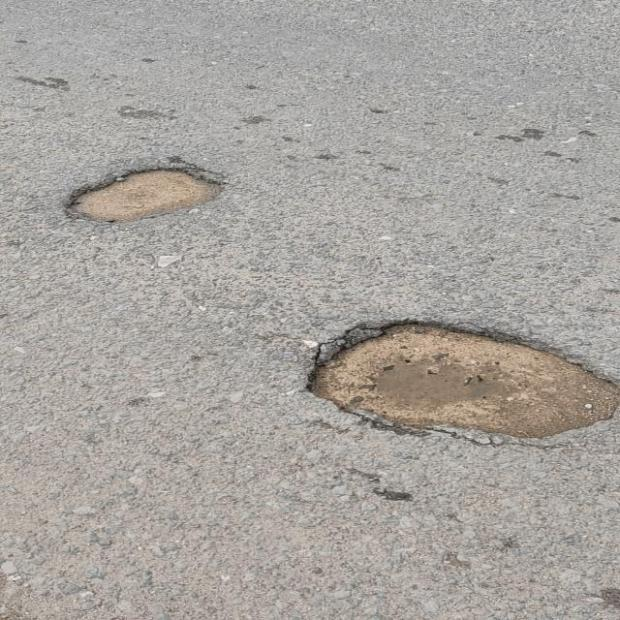lubang: (308, 323, 619, 442), (66, 158, 224, 222)
